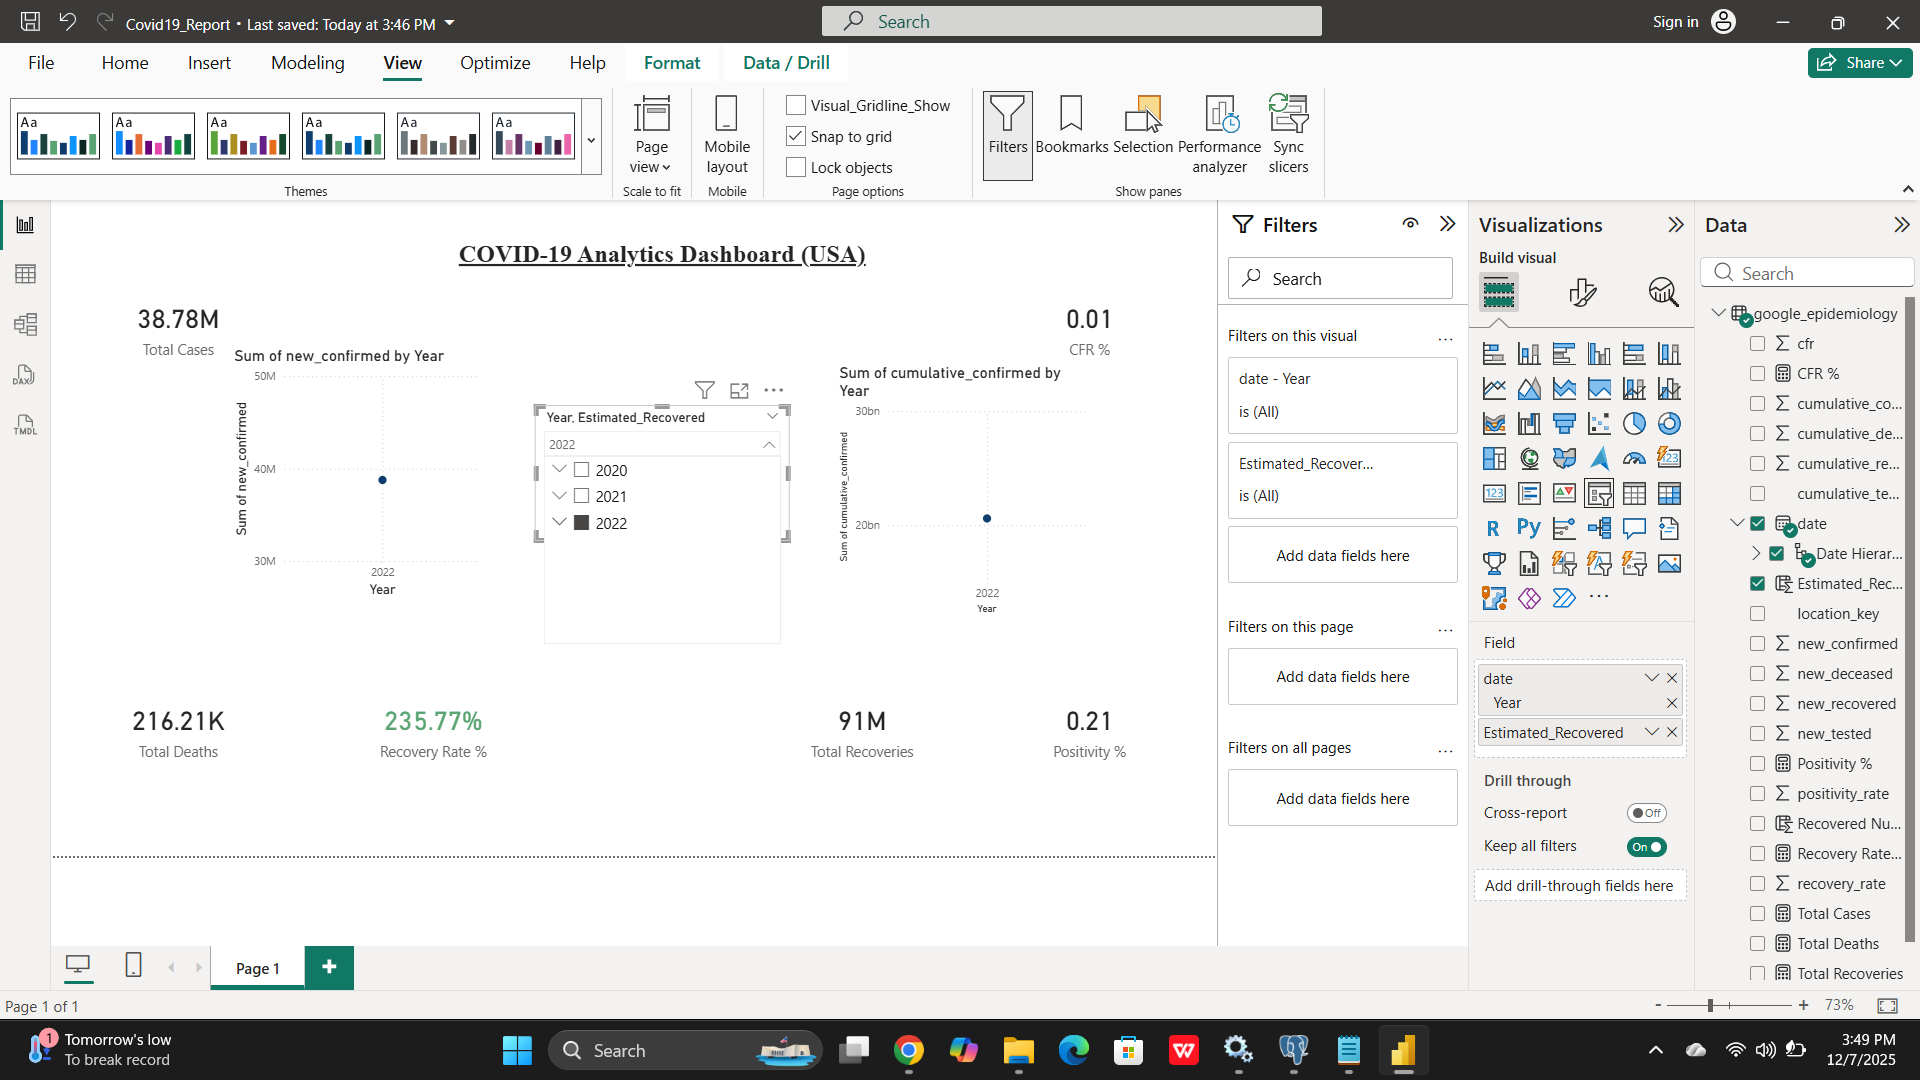

The dashboard page shown, as its layout file describes it:
{"tool":"powerbi","page":{"name":"Page 1","canvas":[1280,720],"ordinal":0},"visuals":[{"type":"card","fields":{"Values":["google_epidemiology.Total Cases"]},"box":[0,0,279.9,279.9],"z":0},{"type":"card","fields":{"Values":["google_epidemiology.Total Deaths"]},"box":[0,440.5,279.9,279.9],"z":1000},{"type":"card","fields":{"Values":["google_epidemiology.Total Recoveries"]},"box":[750.6,440.5,279.9,279.9],"z":2000},{"type":"card","fields":{"Values":["google_epidemiology.Recovery Rate %"]},"box":[279.9,440.5,279.9,279.9],"z":3000},{"type":"card","fields":{"Values":["google_epidemiology.CFR %"]},"box":[1000.3,0,279.9,279.9],"z":4000},{"type":"card","fields":{"Values":["google_epidemiology.Positivity %"]},"box":[1000.3,440.5,279.9,279.9],"z":5000},{"type":"lineChart","fields":{"Category":["google_epidemiology.date.Variation.Date Hierarchy.Year","google_epidemiology.date.Variation.Date Hierarchy.Quarter","google_epidemiology.date.Variation.Date Hierarchy.Month","google_epidemiology.date.Variation.Date Hierarchy.Day"],"Y":["google_epidemiology.new_confirmed"]},"box":[196.2,160.5,279.9,279.9],"z":6000},{"type":"lineChart","fields":{"Category":["google_epidemiology.date.Variation.Date Hierarchy.Year","google_epidemiology.date.Variation.Date Hierarchy.Quarter","google_epidemiology.date.Variation.Date Hierarchy.Month","google_epidemiology.date.Variation.Date Hierarchy.Day"],"Y":["google_epidemiology.cumulative_confirmed"]},"box":[860.4,179.8,279.9,279.9],"z":6001},{"type":"textbox","box":[359.5,39.8,623,100.2],"z":6002},{"type":"slicer","fields":{"Values":["google_epidemiology.date.Variation.Date Hierarchy.Year","google_epidemiology.Estimated_Recovered"]},"box":[531,225,279.9,149.6],"z":6003}]}

Visuals, with their boxes in screenshot pixels (x1, y1, x2, y2):
card - google_epidemiology.Total Cases: bbox=(80, 0, 479, 384)
card - google_epidemiology.Total Deaths: bbox=(80, 614, 479, 1013)
card - google_epidemiology.Total Recoveries: bbox=(1151, 614, 1550, 1013)
card - google_epidemiology.Recovery Rate %: bbox=(479, 614, 879, 1013)
card - google_epidemiology.CFR %: bbox=(1507, 0, 1907, 384)
card - google_epidemiology.Positivity %: bbox=(1507, 614, 1907, 1013)
lineChart - google_epidemiology.date.Variation.Date Hierarchy.Year x google_epidemiology.date.Variation.Date Hierarchy.Quarter: bbox=(360, 214, 759, 613)
lineChart - google_epidemiology.date.Variation.Date Hierarchy.Year x google_epidemiology.date.Variation.Date Hierarchy.Quarter: bbox=(1308, 242, 1707, 641)
textbox: bbox=(593, 42, 1482, 185)
slicer - google_epidemiology.date.Variation.Date Hierarchy.Year x google_epidemiology.Estimated_Recovered: bbox=(838, 306, 1237, 519)
